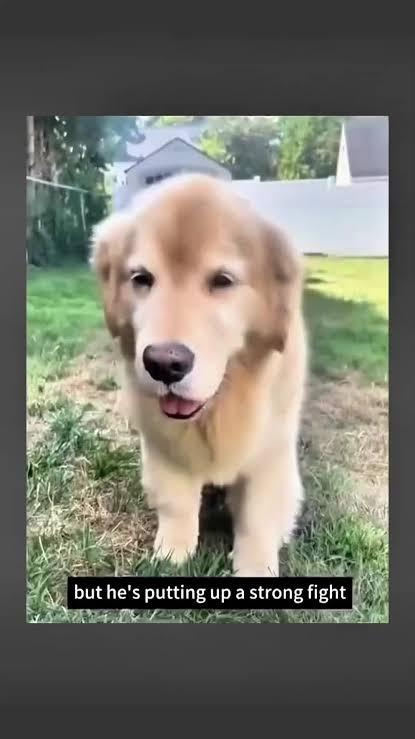adult_dog: (86, 171, 310, 578)
